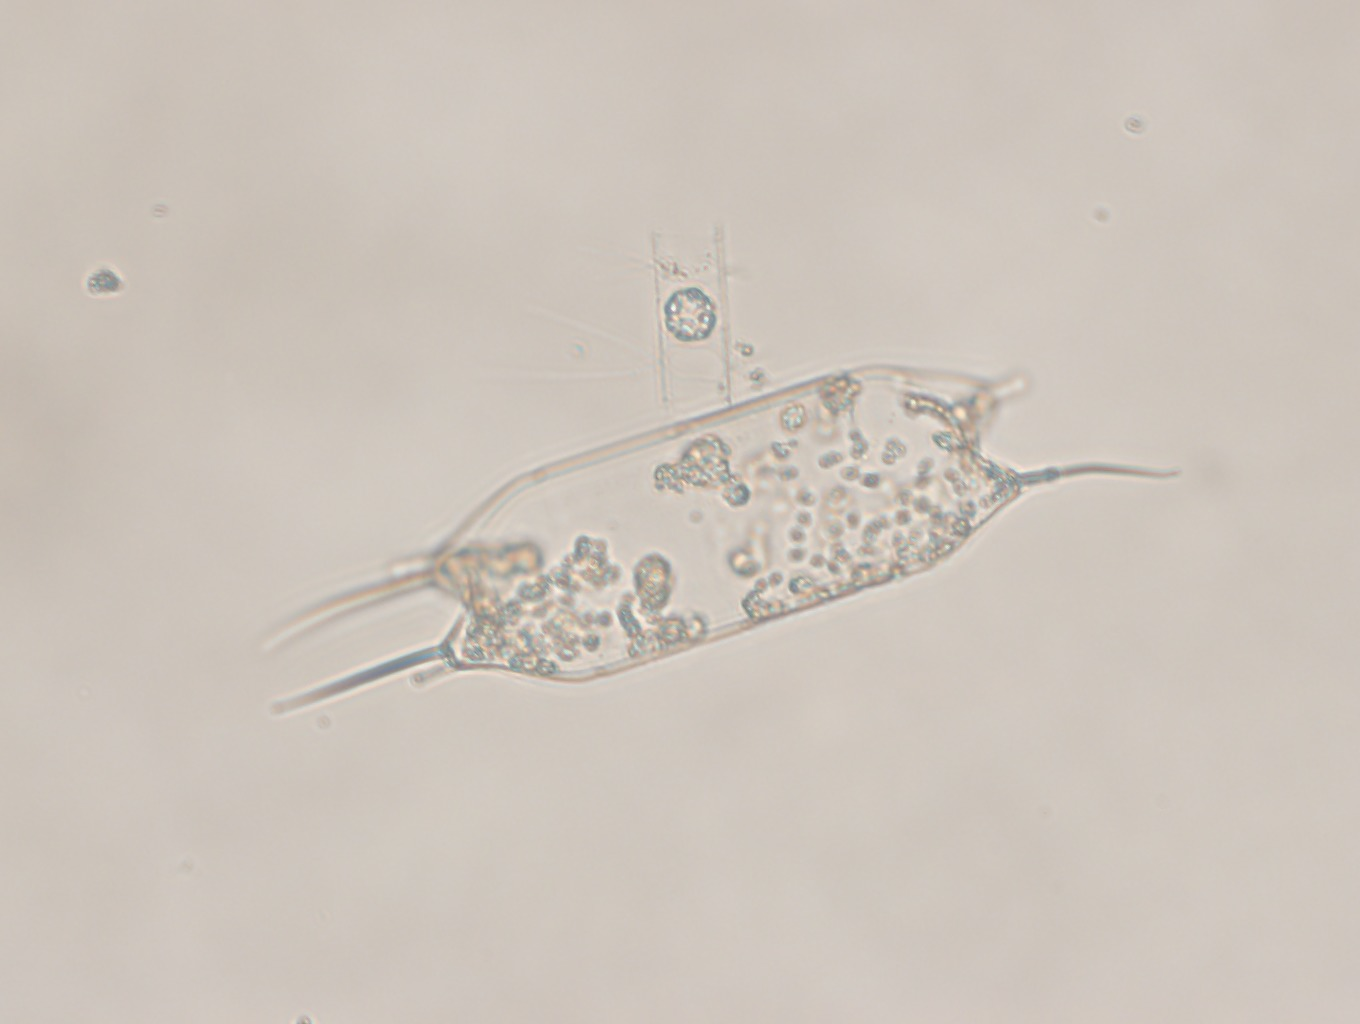biddulphia: (249, 349, 1192, 739)
